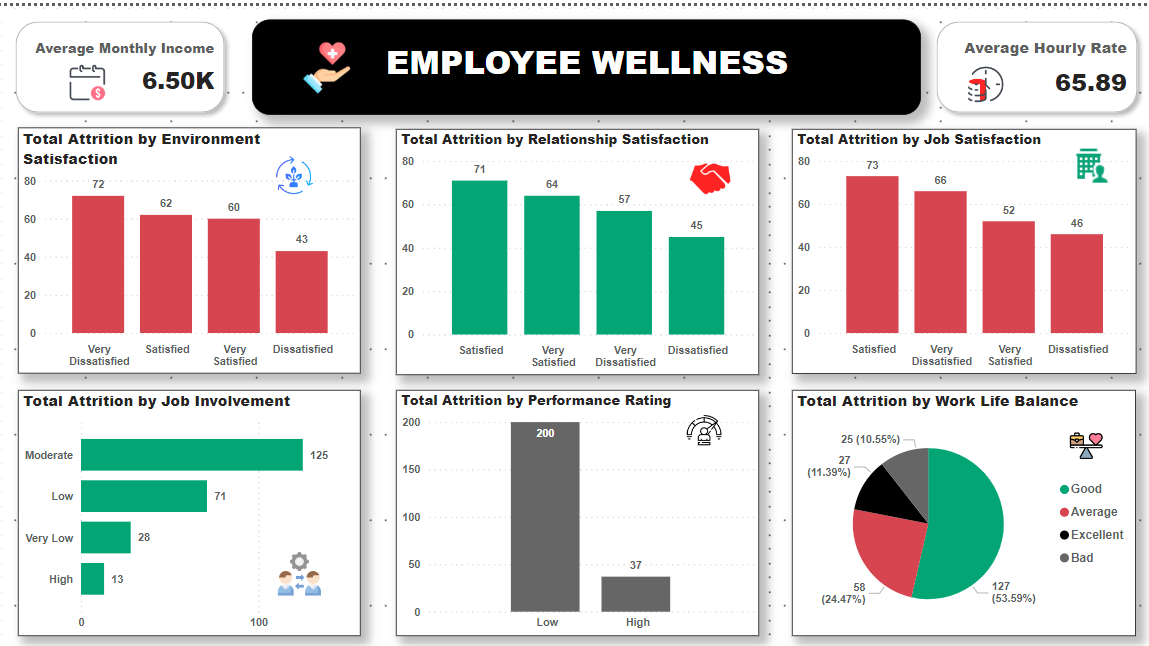

The page's visual inventory and layout, read from the dashboard file:
{"tool":"powerbi","page":{"name":"Page 5","canvas":[1280,720],"ordinal":4},"visuals":[{"type":"textbox","title":"EMPLOYEE WELLNESS","box":[279.9,14.6,743.6,105.8],"z":0},{"type":"image","box":[327.1,35.8,73.2,66.7],"z":1000},{"type":"cardVisual","title":"AVERAGE HOURLY RATE","fields":{"Data":["Avg(HR-Employee-Attrition.HourlyRate)"]},"box":[1023.5,0,257.1,135.1],"z":2000},{"type":"cardVisual","title":"AVERAGE HOURLY RATE","fields":{"Data":["Avg(HR-Employee-Attrition.MonthlyIncome)"]},"box":[0,0,266.8,135.1],"z":3000},{"type":"columnChart","title":"Total Attrition by Environment Satisfaction","fields":{"Y":["Sum(HR-Employee-Attrition.Attrition Count)"],"Category":["HR-Employee-Attrition.EnvironmentSatisfaction (groups)"]},"box":[19.5,135.1,380.7,273.4],"z":4000},{"type":"barChart","title":"Total Attrition by Job Involvement","fields":{"Y":["Sum(HR-Employee-Attrition.Attrition Count)"],"Category":["HR-Employee-Attrition.JobInvolvement (groups)"]},"box":[19.5,426.3,380.7,273.4],"z":5000},{"type":"columnChart","title":"Total Attrition by Relationship Satisfaction","fields":{"Y":["Sum(HR-Employee-Attrition.Attrition Count)"],"Category":["HR-Employee-Attrition.RelationshipSatisfaction (groups)"]},"box":[439.3,136.7,403.5,273.4],"z":6000},{"type":"columnChart","title":"Total Attrition by Performance Rating","fields":{"Y":["Sum(HR-Employee-Attrition.Attrition Count)"],"Category":["HR-Employee-Attrition.PerformanceRating (groups)"]},"box":[439.3,426.3,403.5,273.4],"z":7000},{"type":"columnChart","title":"Total Attrition by Job Satisfaction","fields":{"Y":["Sum(HR-Employee-Attrition.Attrition Count)"],"Category":["HR-Employee-Attrition.JobSatisfaction (groups)"]},"box":[880.3,136.7,382.4,271.7],"z":8000},{"type":"pieChart","title":"Total Attrition by Work Life Balance","fields":{"Y":["Sum(HR-Employee-Attrition.Attrition Count)"],"Category":["HR-Employee-Attrition.WorkLifeBalance (groups)"]},"box":[880,426,382,273],"z":9000},{"type":"image","box":[1070.6,61.8,50.4,50.4],"z":10000},{"type":"image","box":[71.6,58.6,50.4,53.7],"z":11000},{"type":"image","box":[284.7,161.1,84.6,52.1],"z":12000},{"type":"image","box":[758.2,161.1,61.8,56.9],"z":13000},{"type":"image","box":[1182.9,144.8,52.1,60.2],"z":14000},{"type":"image","box":[301,600.4,61.8,61.8],"z":15000},{"type":"image","box":[745.2,447.5,74.8,48.8],"z":16000},{"type":"image","box":[1182.9,462.1,47.2,53.7],"z":17000}]}

Visuals, with their boxes in screenshot pixels (x1, y1, x2, y2), scaled from the page's 1280x720 canvas onto the 1149x646 screenshot:
"EMPLOYEE WELLNESS" textbox: bbox=[251, 13, 919, 108]
image: bbox=[294, 32, 359, 92]
"AVERAGE HOURLY RATE" cardVisual: bbox=[919, 0, 1148, 121]
"AVERAGE HOURLY RATE" cardVisual: bbox=[0, 0, 239, 121]
"Total Attrition by Environment Satisfaction" columnChart: bbox=[18, 121, 359, 367]
"Total Attrition by Job Involvement" barChart: bbox=[18, 382, 359, 628]
"Total Attrition by Relationship Satisfaction" columnChart: bbox=[394, 123, 757, 368]
"Total Attrition by Performance Rating" columnChart: bbox=[394, 382, 757, 628]
"Total Attrition by Job Satisfaction" columnChart: bbox=[790, 123, 1133, 366]
"Total Attrition by Work Life Balance" pieChart: bbox=[790, 382, 1133, 627]
image: bbox=[961, 55, 1006, 101]
image: bbox=[64, 53, 110, 101]
image: bbox=[256, 145, 332, 191]
image: bbox=[681, 145, 736, 196]
image: bbox=[1062, 130, 1109, 184]
image: bbox=[270, 539, 326, 594]
image: bbox=[669, 402, 736, 445]
image: bbox=[1062, 415, 1104, 463]
